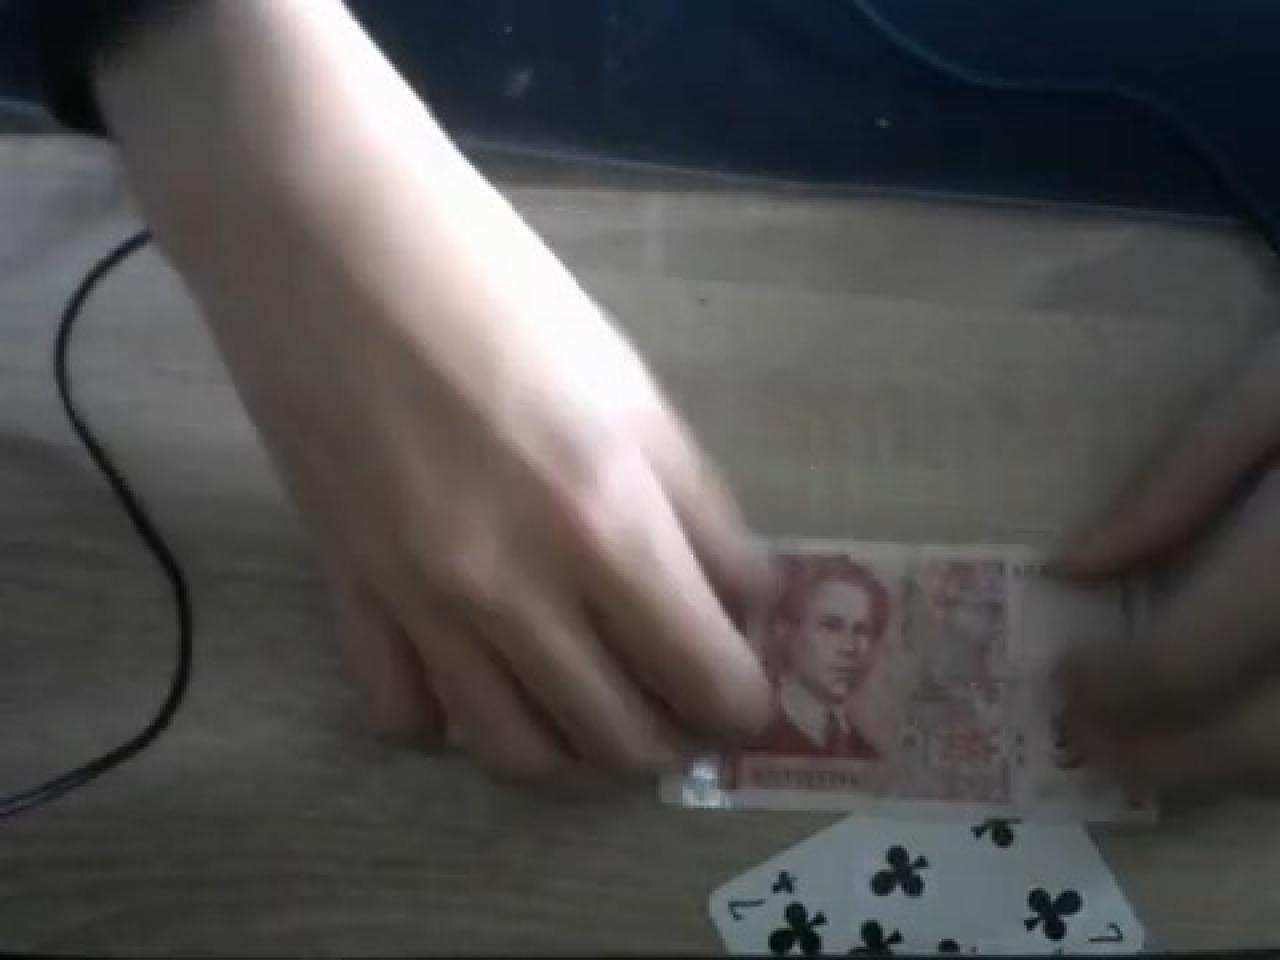5leva: (743, 555, 1118, 812)
